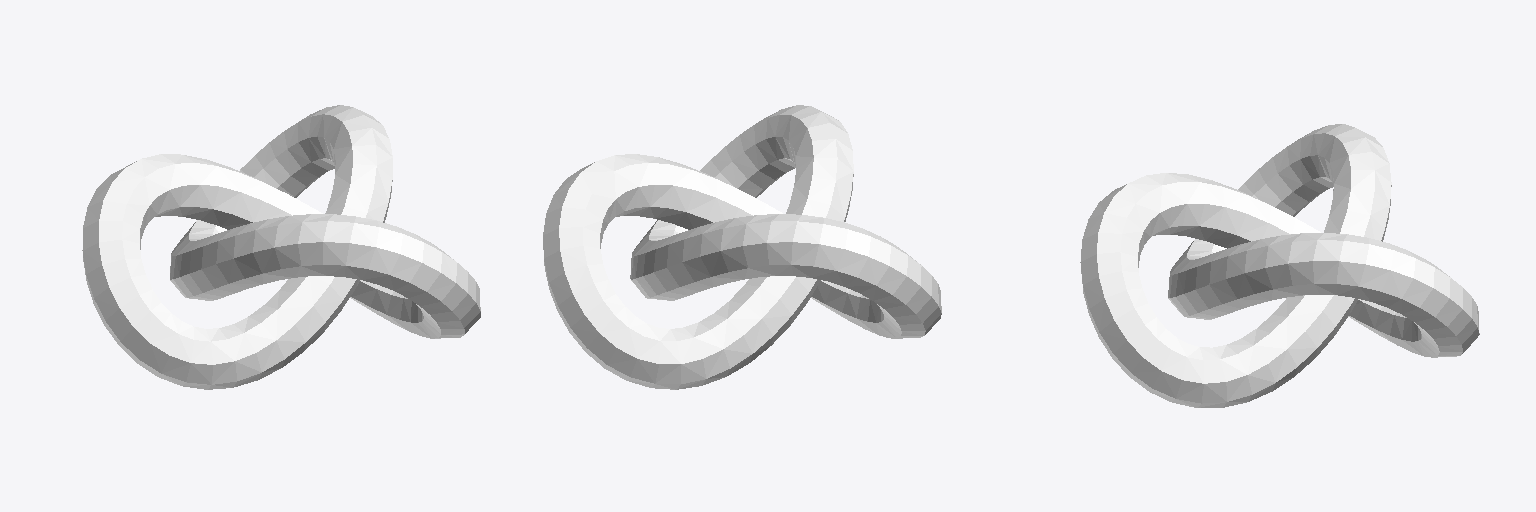
Rendered from Knot.obj.
The picture shows the model from 3 angles: view 1: azimuth 30°, elevation 25°; view 2: azimuth 150°, elevation 25°; view 3: azimuth 270°, elevation 25°; orthographic projection.
Visible parts, largest first — view 1: knot1; view 2: knot1; view 3: knot1.
Boxes of the visible parts, x1,y1,x2,y2 form: knot1: [82, 105, 480, 389]; knot1: [543, 105, 941, 389]; knot1: [1080, 124, 1479, 407].
Bounding box in the file's own units: 3.02 × 1.48 × 3.2.